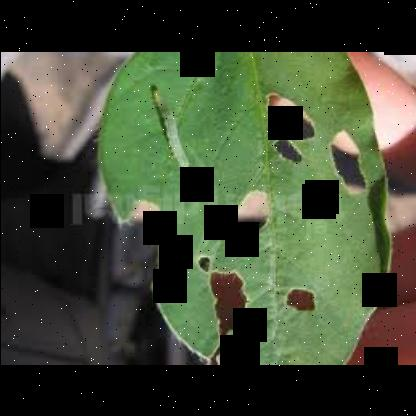agujero: (115, 195, 171, 291), (220, 183, 274, 253), (210, 266, 244, 362), (263, 88, 316, 142), (328, 124, 368, 193), (272, 133, 304, 165), (282, 284, 318, 312), (194, 252, 210, 272)
oruga: (147, 81, 193, 175)
